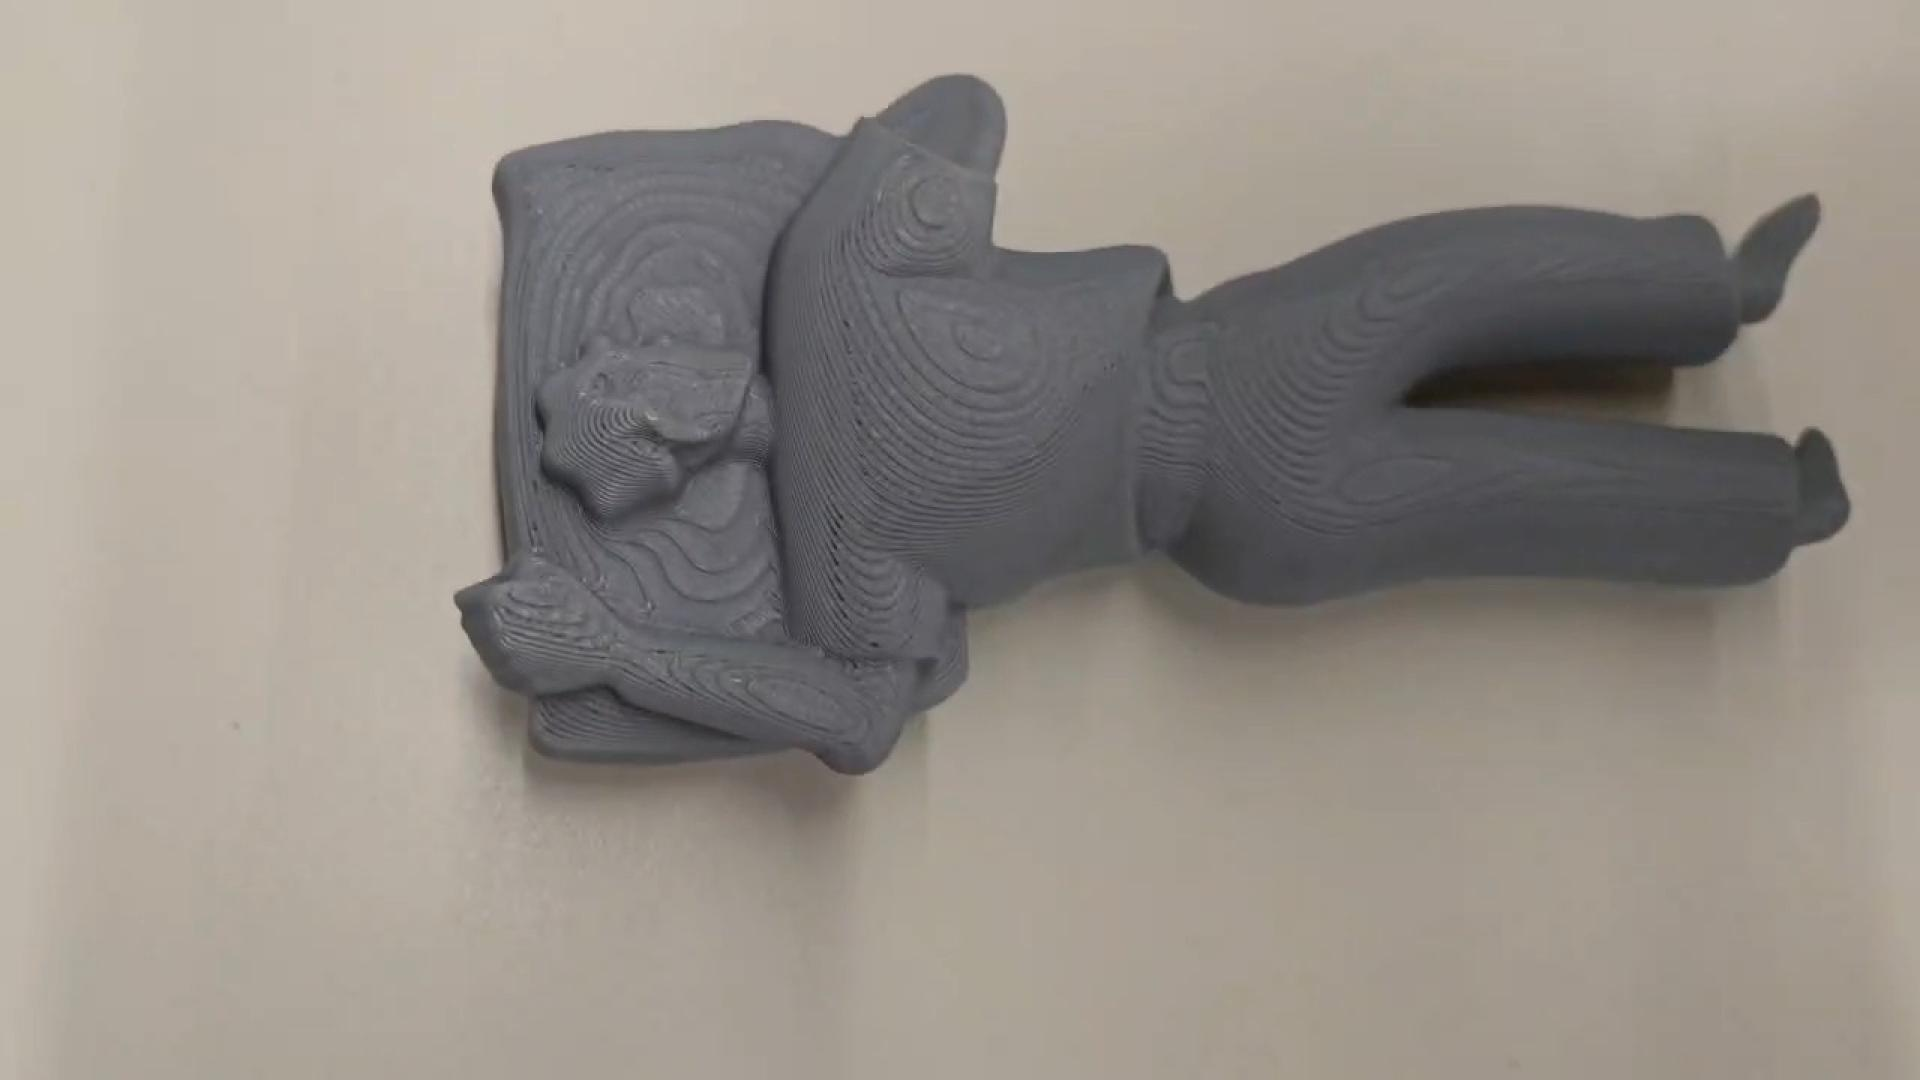Bad-style: (473, 62, 1862, 782)
